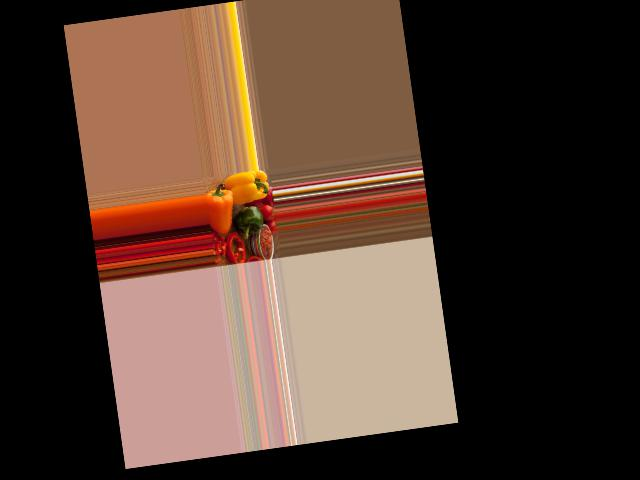bell_pepper: (230, 169, 270, 205)
